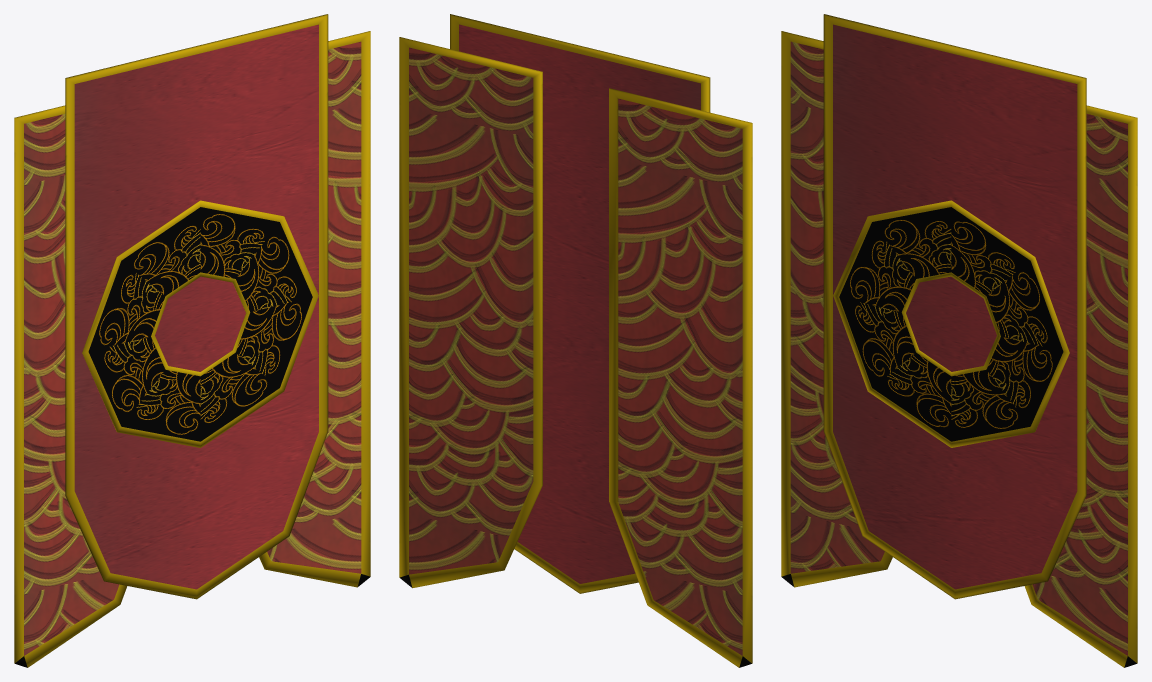
Rendered from Banner_Art.fbx.
3 renders of one model, left to right at view 1: azimuth 30°, elevation 25°; view 2: azimuth 150°, elevation 25°; view 3: azimuth 330°, elevation 25°, orthographic.
Visible parts, largest first — view 1: Banner_Art; view 2: Banner_Art; view 3: Banner_Art.
Part boxes in pixels (x1,y1,x2,y2): Banner_Art: [14, 14, 370, 667]; Banner_Art: [399, 14, 752, 667]; Banner_Art: [781, 14, 1137, 667].
Size of the model in its own units: 2.09 by 3.27 by 0.0842.
